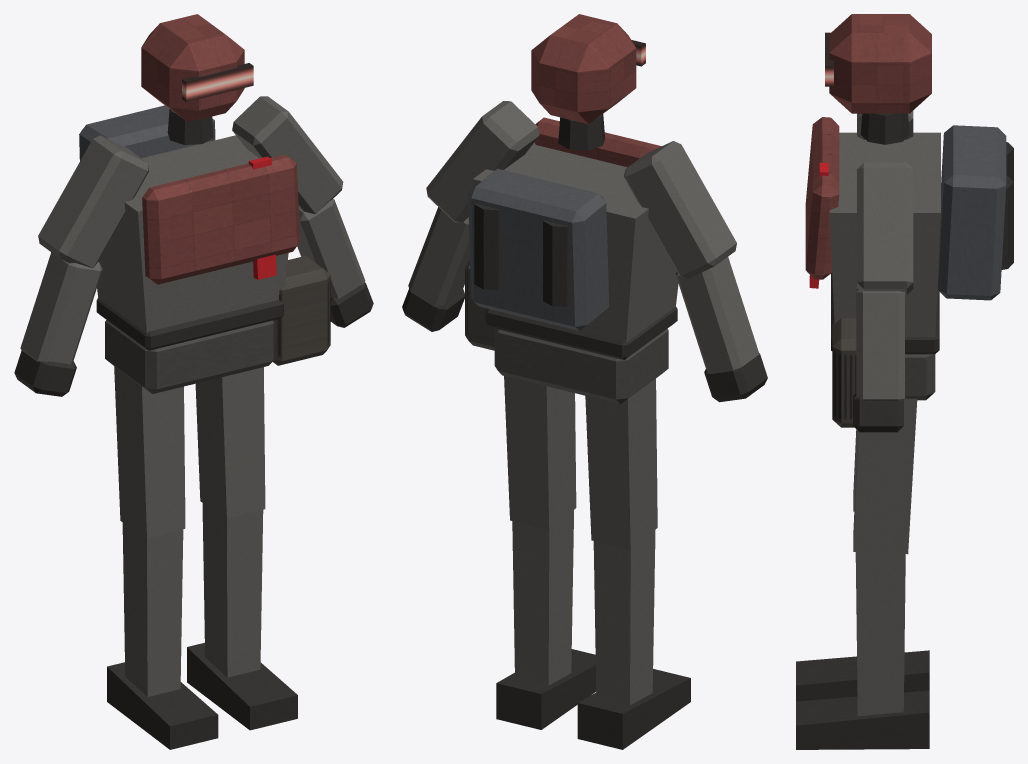
File: char_fabricator.obj
3 renders of one model, left to right at view 1: azimuth 30°, elevation 25°; view 2: azimuth 150°, elevation 25°; view 3: azimuth 270°, elevation 25°, orthographic. The views are drawn at different scales.
Parts seen in each view (by area): view 1: char_fabricator; view 2: char_fabricator; view 3: char_fabricator.
Boxes of the visible parts, <box> form: char_fabricator: <box>14,14,373,749</box>; char_fabricator: <box>402,14,767,749</box>; char_fabricator: <box>796,14,1013,749</box>.
Bounding box in the file's own units: 0.9082 × 1.72 × 0.4888.
1 material, 1 textured.
